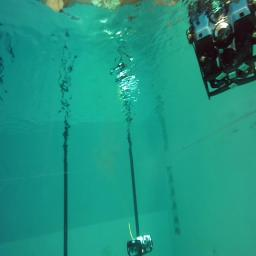Side: (126, 233, 154, 256)
front: (185, 0, 256, 101)
